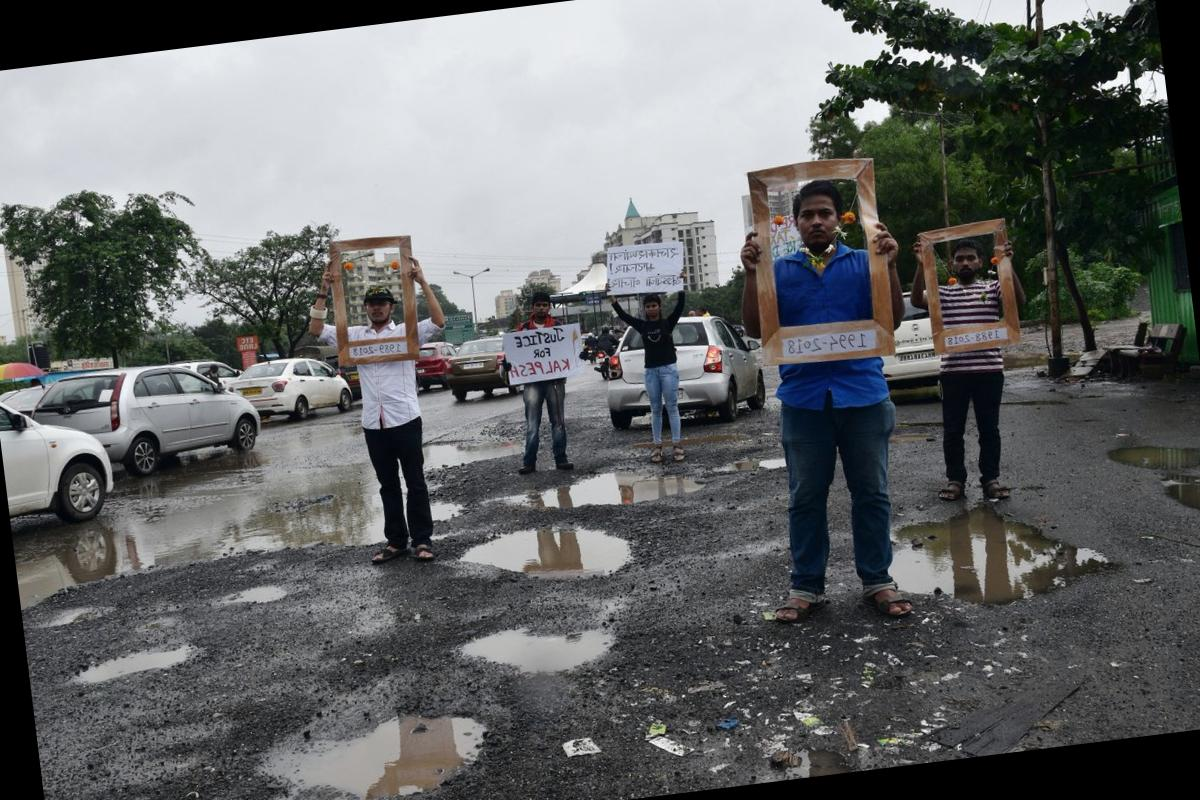pothole: (808, 463, 1132, 653), (230, 684, 523, 800), (411, 494, 679, 612), (427, 594, 669, 686), (466, 454, 709, 536), (1084, 410, 1200, 570), (56, 624, 226, 716), (90, 765, 420, 800), (684, 434, 837, 492), (189, 565, 306, 629), (604, 422, 752, 470), (32, 585, 126, 652), (872, 418, 954, 450)
